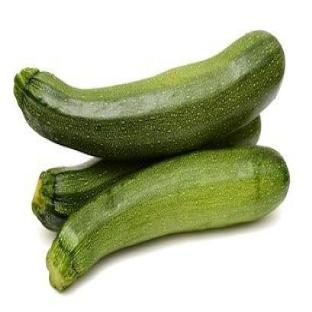Zucchini: (47, 147, 289, 290), (14, 32, 284, 159), (33, 159, 148, 230)
